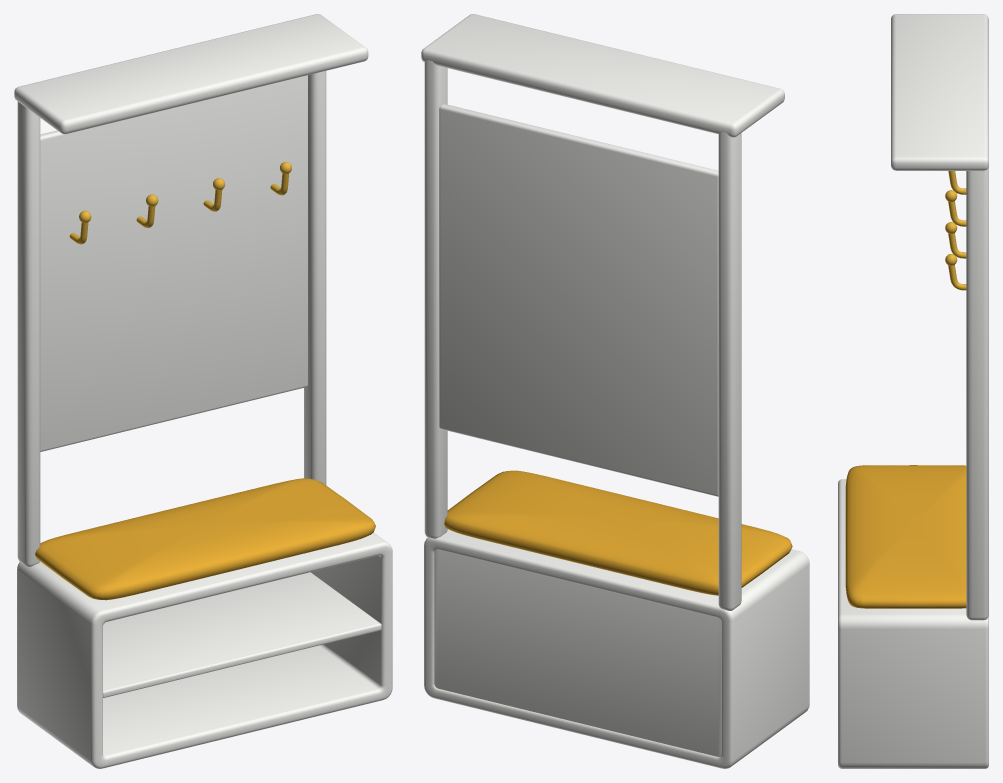
File: banco_cabideiro_branco.glb
3 views of the same model, side by side, from view 1: azimuth 30°, elevation 25°; view 2: azimuth 150°, elevation 25°; view 3: azimuth 270°, elevation 25° (orthographic). The views are drawn at different scales.
Parts seen in each view (by area): view 1: banco_cabideiro_branco; view 2: banco_cabideiro_branco; view 3: banco_cabideiro_branco.
Part boxes in pixels (x1,y1,x2,y2): banco_cabideiro_branco: (14, 14, 392, 768); banco_cabideiro_branco: (421, 14, 809, 768); banco_cabideiro_branco: (838, 14, 988, 768).
Size of the model in its own units: 0.92 by 1.8 by 0.4.
Materials: 1 (1 with a texture image).
